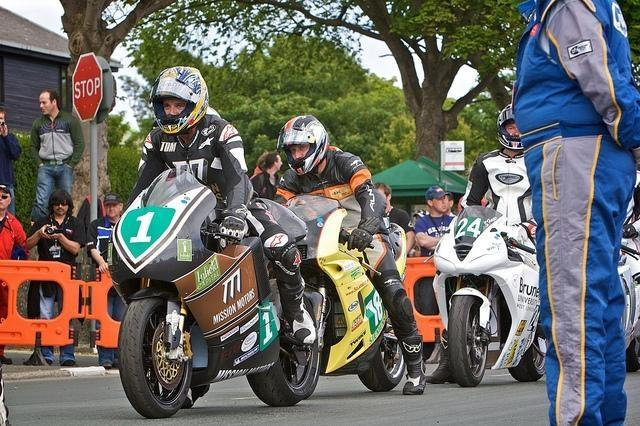motorcycle: (112, 169, 278, 387), (273, 192, 411, 392), (434, 206, 538, 382), (618, 221, 640, 349)
